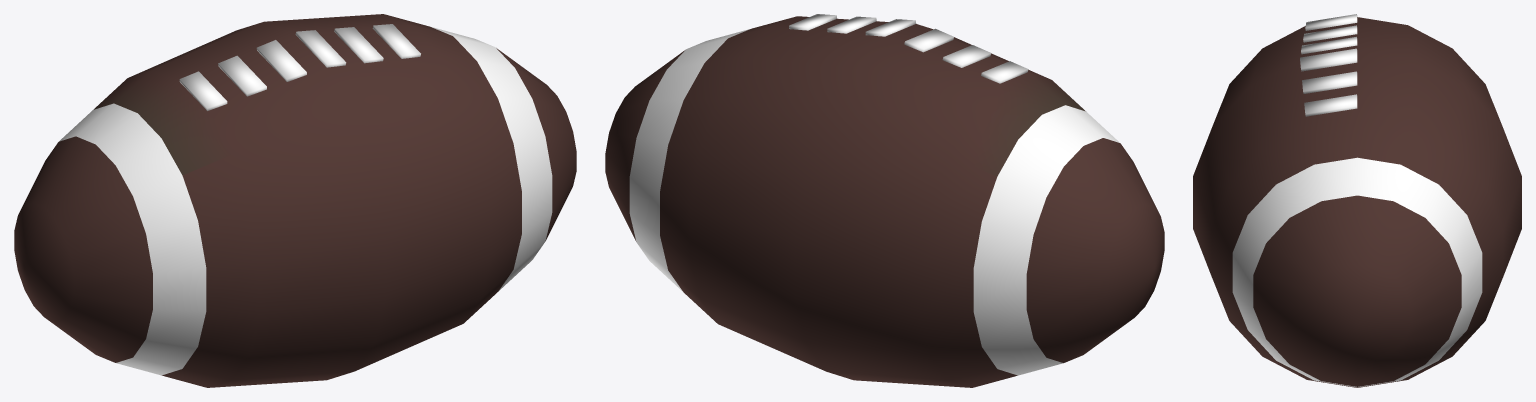
Rendered from Prop_Ball_05.fbx.
The picture shows the model from 3 angles, left to right: view 1: azimuth 30°, elevation 25°; view 2: azimuth 150°, elevation 25°; view 3: azimuth 270°, elevation 25°; orthographic projection. The views are drawn at different scales.
Visible parts, largest first — view 1: Prop_Ball_05; view 2: Prop_Ball_05; view 3: Prop_Ball_05.
Boxes of the visible parts, x1,y1,x2,y2 form: Prop_Ball_05: [14, 14, 576, 387]; Prop_Ball_05: [605, 14, 1164, 387]; Prop_Ball_05: [1193, 14, 1521, 387].
Bounding box in the file's own units: 55.51 × 32.81 × 32.01.
